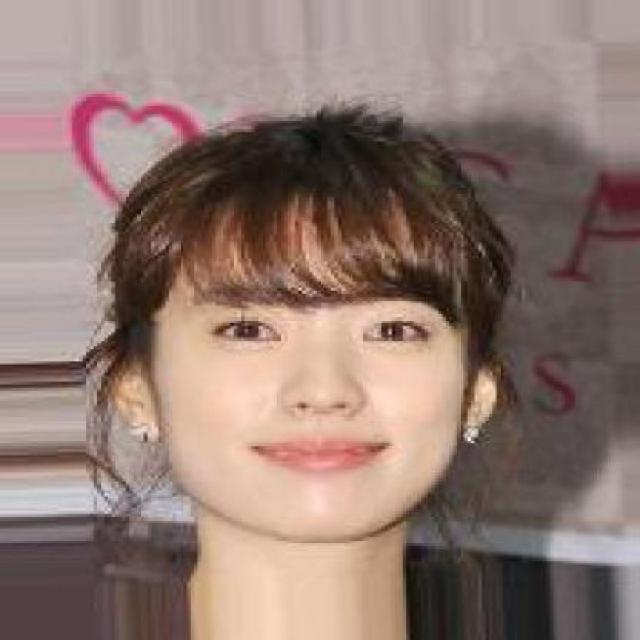closed-mouth: (254, 438, 388, 470)
